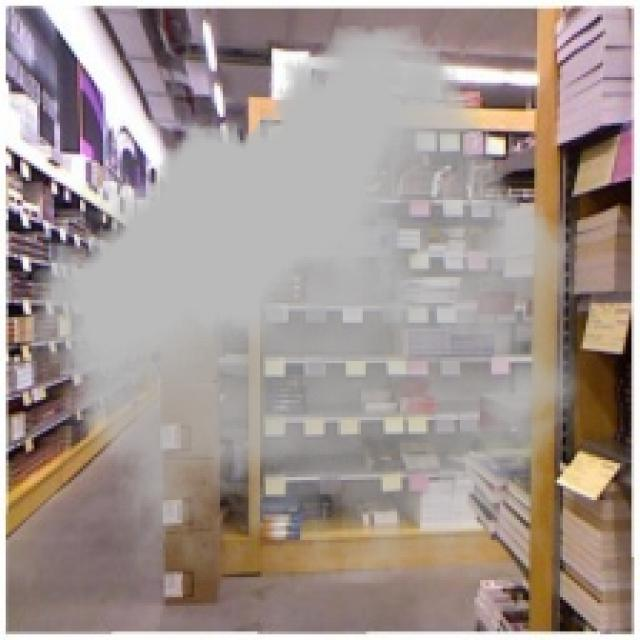smoke: (31, 26, 580, 583)
